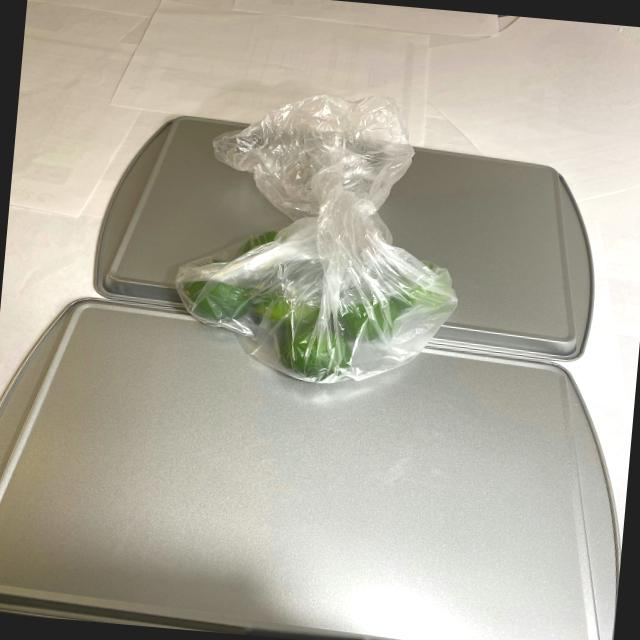lemon: (169, 226, 459, 392)
